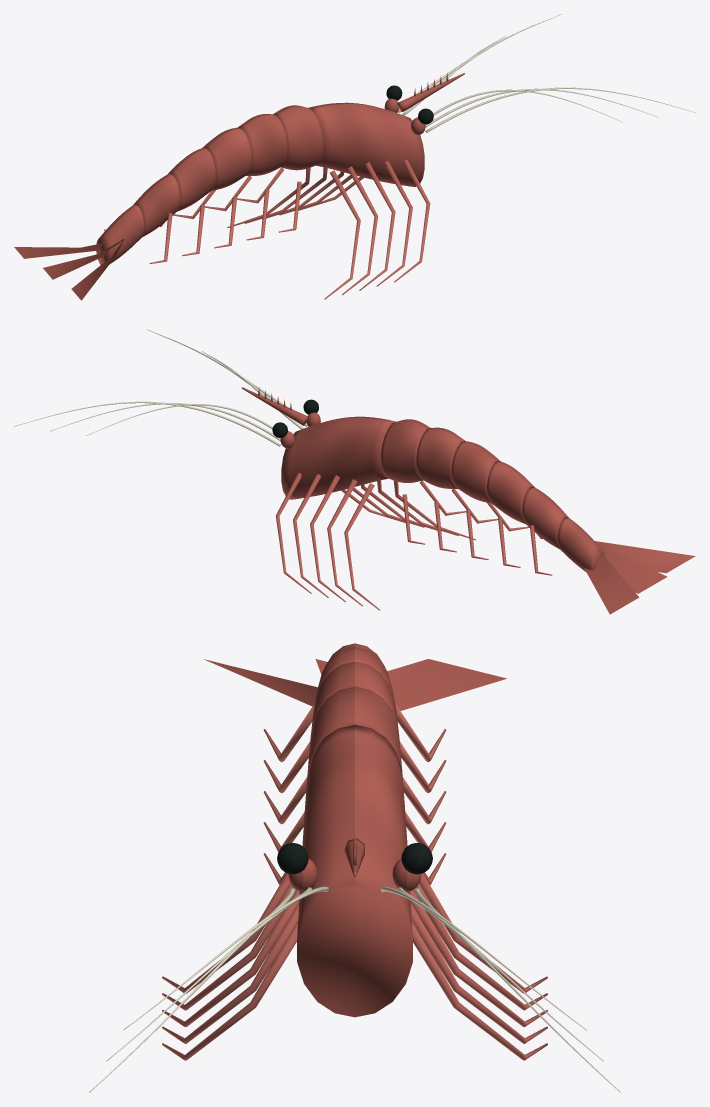
The model's file is fireshrimp-desktop.glb.
3 views of the same model, one above another, from view 1: azimuth 30°, elevation 25°; view 2: azimuth 150°, elevation 25°; view 3: azimuth 270°, elevation 25° (orthographic). The views are drawn at different scales.
Visible parts, largest first — view 1: carapace, pereiopod, antenna, pleopod, serrated-rostrum; view 2: carapace, pereiopod, antenna, pleopod, serrated-rostrum; view 3: carapace, pereiopod, pleopod, antenna, eye, eye-stalk.
Part boxes in pixels (x1,y1,x2,y2): carapace: (14, 102, 424, 300); pereiopod: (227, 159, 430, 299); antenna: (398, 14, 695, 132); pleopod: (104, 167, 301, 263); serrated-rostrum: (397, 73, 464, 111); carapace: (281, 416, 695, 614); pereiopod: (276, 472, 475, 610); antenna: (14, 329, 307, 446); pleopod: (402, 480, 552, 575); serrated-rostrum: (241, 387, 308, 425); carapace: (204, 643, 506, 1017); pereiopod: (162, 873, 547, 1060); pleopod: (263, 703, 446, 884); antenna: (89, 886, 620, 1092); eye: (277, 843, 432, 874); eye-stalk: (288, 859, 421, 891).
Bounding box in the file's own units: 1.18 × 0.2938 × 0.4706.
